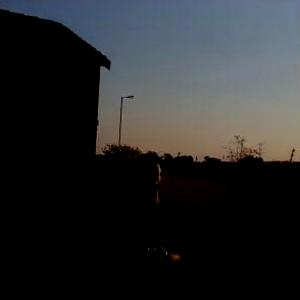follow: (98, 150, 189, 299)
